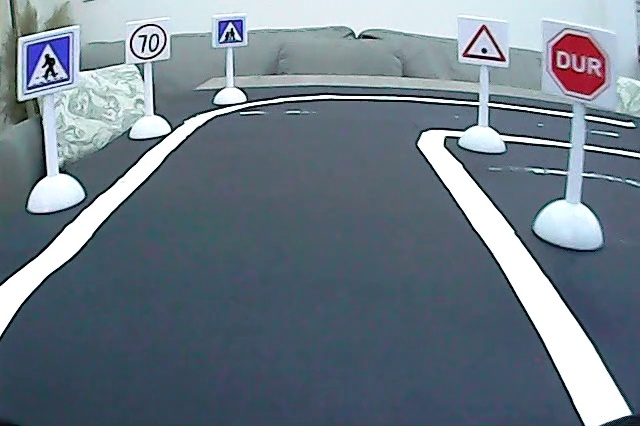green light: (460, 20, 509, 64)
pedestrian crossing: (21, 33, 74, 93)
school crossing: (216, 15, 245, 47)
speed limit 70: (129, 21, 169, 63)
stop sign: (545, 27, 612, 104)
